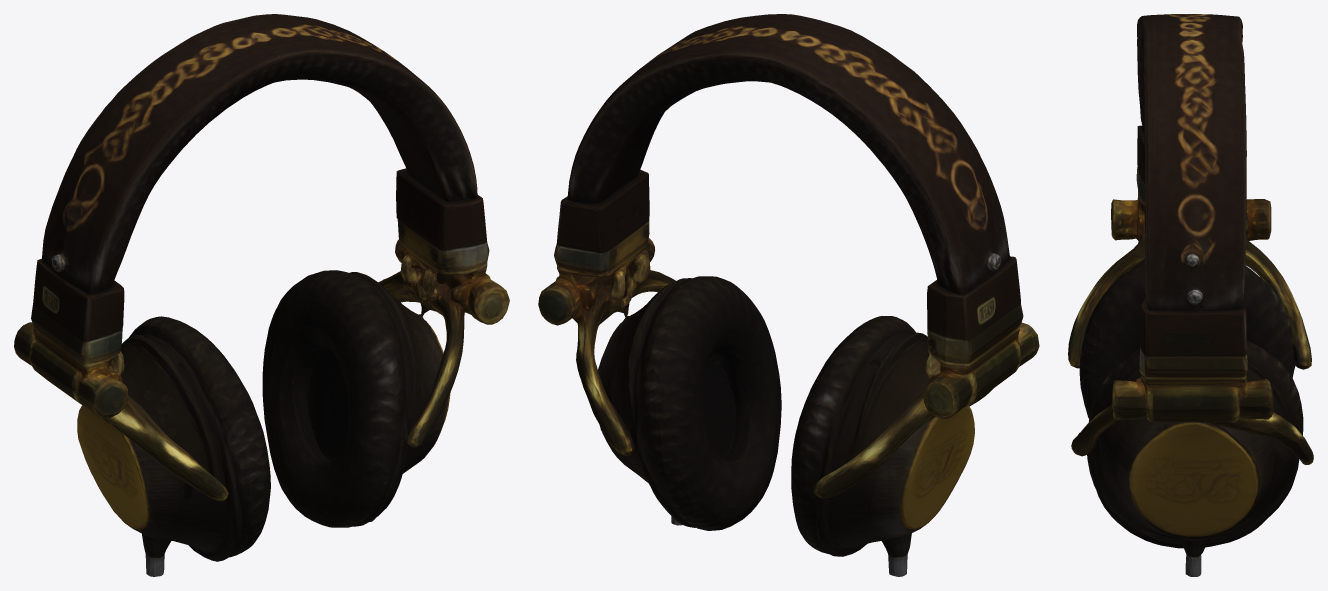
File: headphones.glb
The picture shows the model from 3 angles, left to right: view 1: azimuth 30°, elevation 25°; view 2: azimuth 150°, elevation 25°; view 3: azimuth 270°, elevation 25°; orthographic projection. The views are drawn at different scales.
Parts seen in each view (by area): view 1: world; view 2: world; view 3: world.
Boxes of the visible parts, bbox=[...] form: world: bbox=[14, 14, 509, 576]; world: bbox=[538, 14, 1039, 576]; world: bbox=[1068, 14, 1313, 576].
Bounding box in the file's own units: 0.8617 × 1 × 0.4546.
1 material, 1 textured.
